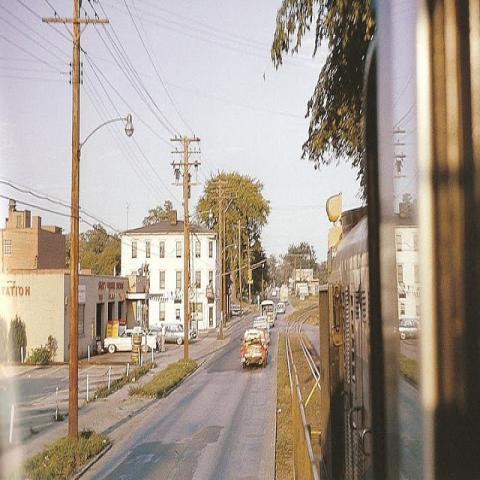car: (104, 328, 158, 354), (240, 327, 268, 368), (148, 323, 193, 344), (253, 316, 271, 345), (276, 302, 286, 314), (272, 289, 276, 296)
